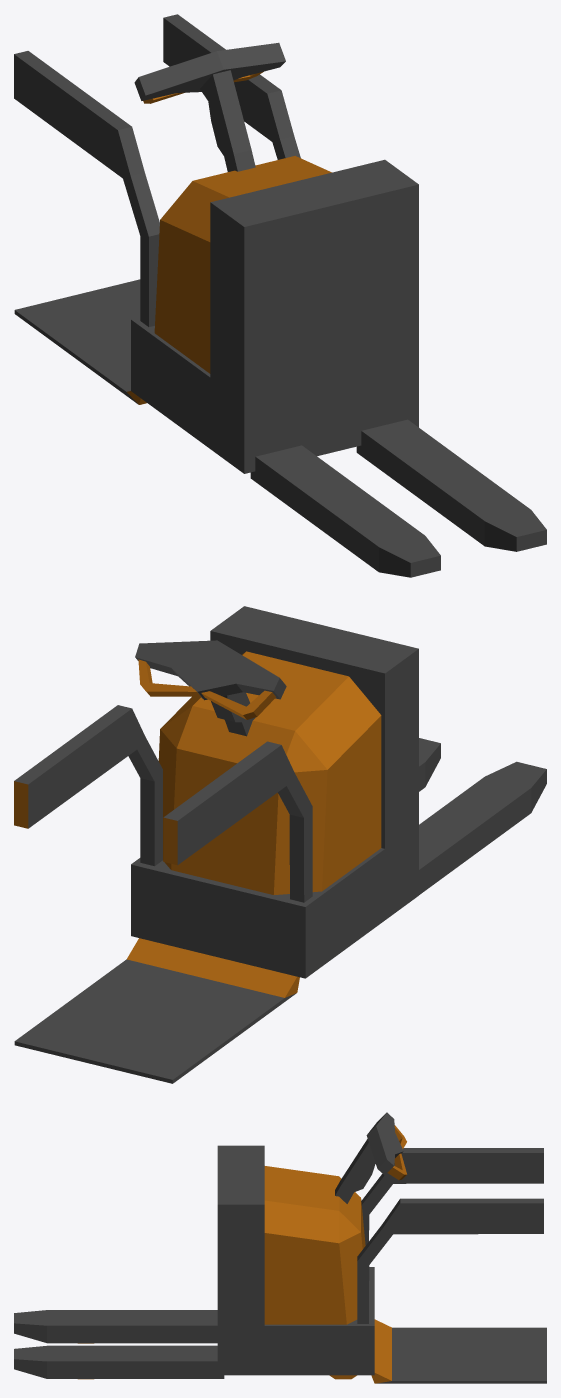
The model's file is pallettrolley.dae.
3 views of the same model, one above another, from view 1: azimuth 30°, elevation 25°; view 2: azimuth 150°, elevation 25°; view 3: azimuth 270°, elevation 25° (orthographic). The views are drawn at different scales.
Parts seen in each view (by area): view 1: polymsh6_Pts_Material__3__Surf, polymsh6_Pts_Material__5__Surf, polymsh6_Pts_Material__2__Surf; view 2: polymsh6_Pts_Material__3__Surf, polymsh6_Pts_Material__5__Surf, polymsh6_Pts_Material__2__Surf, polymsh6_Pts_Material__4__Surf; view 3: polymsh6_Pts_Material__3__Surf, polymsh6_Pts_Material__5__Surf, polymsh6_Pts_Material__2__Surf, polymsh6_Pts_Material__4__Surf.
Boxes of the visible parts, <box> form: polymsh6_Pts_Material__3__Surf: <box>14,14,546,577</box>; polymsh6_Pts_Material__5__Surf: <box>127,156,331,404</box>; polymsh6_Pts_Material__2__Surf: <box>14,279,140,403</box>; polymsh6_Pts_Material__3__Surf: <box>14,606,546,978</box>; polymsh6_Pts_Material__5__Surf: <box>14,651,381,997</box>; polymsh6_Pts_Material__2__Surf: <box>14,959,296,1083</box>; polymsh6_Pts_Material__4__Surf: <box>138,659,275,719</box>; polymsh6_Pts_Material__3__Surf: <box>14,1112,543,1378</box>; polymsh6_Pts_Material__5__Surf: <box>78,1166,391,1383</box>; polymsh6_Pts_Material__2__Surf: <box>377,1327,546,1383</box>; polymsh6_Pts_Material__4__Surf: <box>387,1125,406,1180</box>.
Size of the model in its own units: 6.66 by 12.18 by 25.43.
